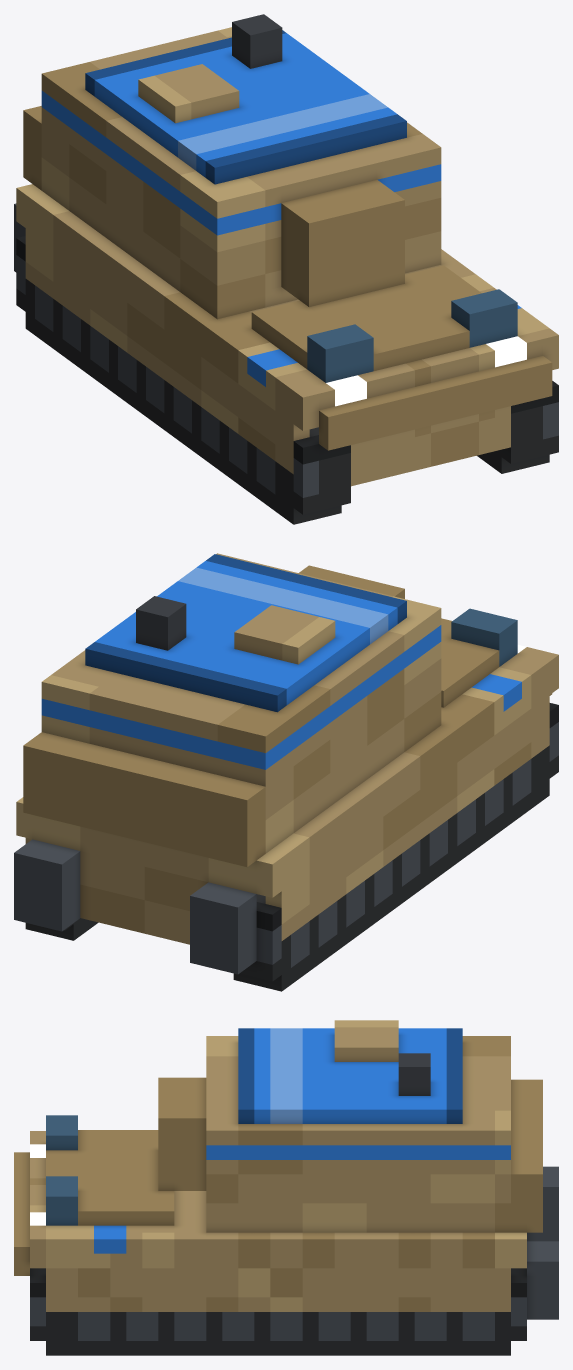
File: cm_artillery_h_1.glb
3 renders of one model, top to bottom at view 1: azimuth 30°, elevation 25°; view 2: azimuth 150°, elevation 25°; view 3: azimuth 270°, elevation 25°, orthographic. The views are drawn at different scales.
Visible parts, largest first — view 1: cm_artillery_h_1_body; view 2: cm_artillery_h_1_body; view 3: cm_artillery_h_1_body.
Boxes of the visible parts, x1=… form: cm_artillery_h_1_body: x1=14, y1=14, x2=558, y2=524; cm_artillery_h_1_body: x1=14, y1=553, x2=558, y2=991; cm_artillery_h_1_body: x1=14, y1=1020, x2=558, y2=1355.
Size of the model in its own units: 1 by 1.12 by 2.12.
1 material, 1 textured.
